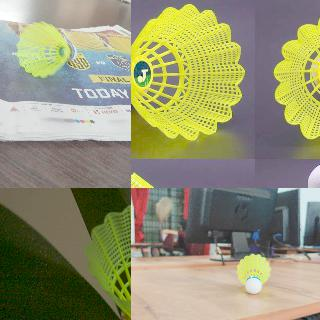shuttlecock: (131, 1, 244, 141), (273, 11, 319, 146), (84, 205, 130, 319), (16, 21, 76, 77), (236, 253, 270, 293)
